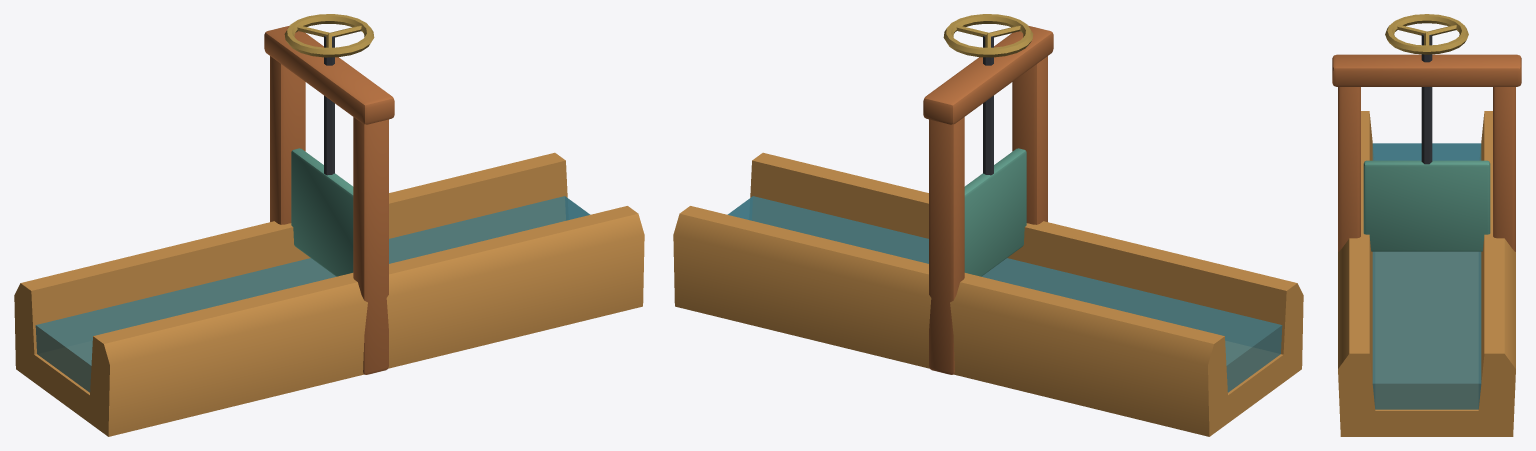
The model's file is deco_irrigation_sluice.fbx.
3 renders of one model, left to right at view 1: azimuth 30°, elevation 25°; view 2: azimuth 150°, elevation 25°; view 3: azimuth 270°, elevation 25°, orthographic. The views are drawn at different scales.
Parts seen in each view (by area): view 1: Irrigation_Sluice_Trough, Irrigation_Sluice_GateFrame, Irrigation_Sluice_Water, Irrigation_Sluice_GatePlate, Irrigation_Sluice_Wheel; view 2: Irrigation_Sluice_Trough, Irrigation_Sluice_GateFrame, Irrigation_Sluice_Water, Irrigation_Sluice_GatePlate, Irrigation_Sluice_Wheel; view 3: Irrigation_Sluice_Trough, Irrigation_Sluice_Water, Irrigation_Sluice_GateFrame, Irrigation_Sluice_GatePlate, Irrigation_Sluice_Wheel.
Part boxes in pixels (<box>): Irrigation_Sluice_Trough: <box>14,152,644,436</box>; Irrigation_Sluice_GateFrame: <box>264,25,394,374</box>; Irrigation_Sluice_Water: <box>35,196,590,392</box>; Irrigation_Sluice_GatePlate: <box>291,35,353,276</box>; Irrigation_Sluice_Wheel: <box>284,14,374,57</box>; Irrigation_Sluice_Trough: <box>673,152,1303,436</box>; Irrigation_Sluice_GateFrame: <box>923,25,1053,374</box>; Irrigation_Sluice_Water: <box>727,196,1282,392</box>; Irrigation_Sluice_GatePlate: <box>964,35,1026,276</box>; Irrigation_Sluice_Wheel: <box>943,14,1033,57</box>; Irrigation_Sluice_Trough: <box>1338,111,1515,436</box>; Irrigation_Sluice_Water: <box>1372,143,1481,409</box>; Irrigation_Sluice_GateFrame: <box>1332,54,1521,251</box>; Irrigation_Sluice_GatePlate: <box>1363,34,1490,251</box>; Irrigation_Sluice_Wheel: <box>1385,14,1468,54</box>.
Size of the model in its own units: 200 by 110 by 66.
